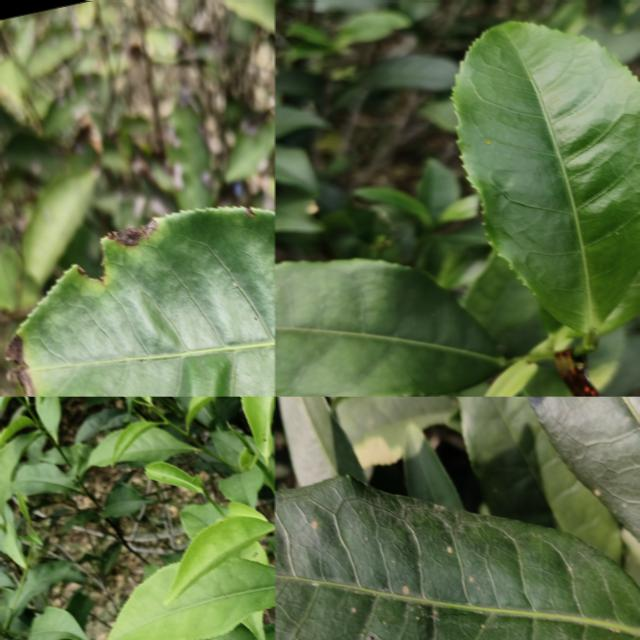Leaf: (275, 476, 640, 640), (452, 21, 640, 334), (7, 206, 275, 396), (275, 257, 498, 396), (457, 396, 622, 562), (528, 396, 640, 541), (106, 557, 275, 640), (164, 514, 275, 603), (23, 168, 98, 285), (335, 396, 456, 467), (278, 396, 366, 485), (403, 423, 464, 508), (167, 105, 212, 208), (361, 53, 459, 91), (15, 559, 87, 608), (224, 119, 275, 182), (0, 431, 40, 510), (416, 157, 461, 221), (118, 427, 196, 462), (27, 30, 83, 77), (241, 396, 275, 464), (25, 605, 88, 640), (111, 420, 159, 465), (13, 461, 78, 494), (275, 143, 317, 191), (144, 461, 205, 494), (75, 406, 130, 441), (218, 465, 263, 507), (275, 192, 321, 232), (223, 0, 275, 34), (103, 482, 153, 516), (0, 245, 22, 311), (88, 429, 124, 465), (210, 429, 244, 466), (35, 396, 61, 439), (3, 519, 26, 566), (313, 0, 394, 12), (186, 396, 215, 428), (210, 623, 260, 640), (0, 570, 11, 587), (0, 396, 12, 410), (292, 0, 308, 10)
